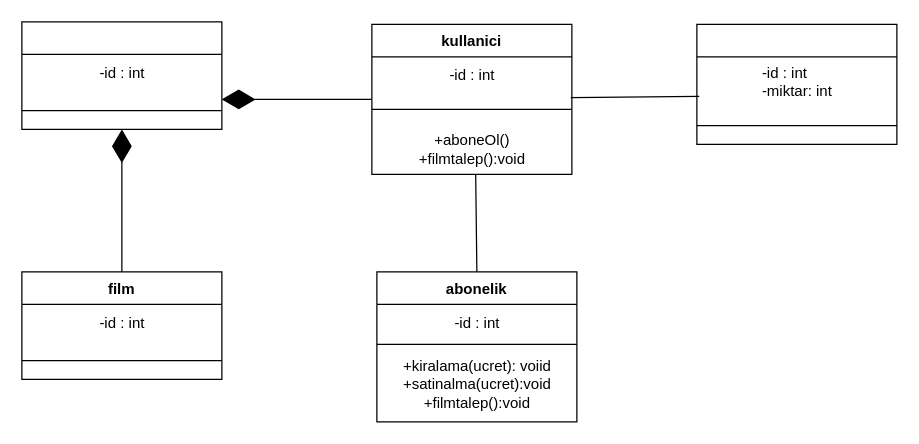
The diagram is 919 pixels wide and 444 high, and some of its shapes have lost their labels. The shapes that lost their labels are listed below. From the top down, each one's box as (x1, y1, x2, y2) in pixels, then its label:
(21, 21, 222, 129): uygulama
(696, 23, 897, 144): kredi
